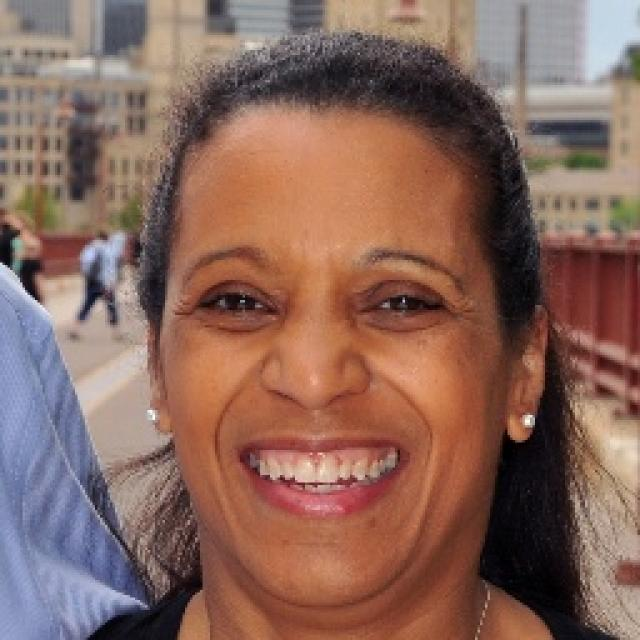earlobe: (504, 301, 554, 442), (142, 305, 177, 433)
